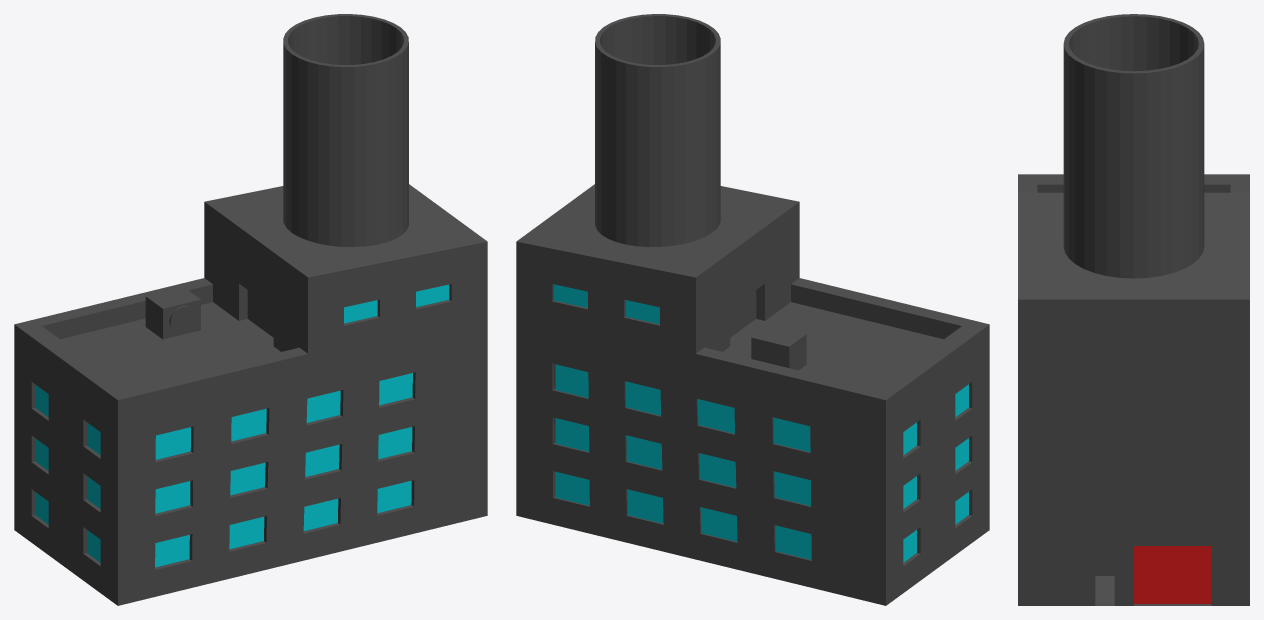
Rendered from Factory_01.fbx.
3 renders of one model, left to right at view 1: azimuth 30°, elevation 25°; view 2: azimuth 150°, elevation 25°; view 3: azimuth 270°, elevation 25°, orthographic. The views are drawn at different scales.
Visible parts, largest first — view 1: Cube, Plane, Plane.002, Plane.004; view 2: Cube, Plane.001, Plane.002, Plane.003; view 3: Cube, Plane.005, Plane.006.
Part boxes in pixels (left/top/right/bottom): Cube: left=14, top=14, right=487, bottom=605; Plane: left=155, top=373, right=412, bottom=567; Plane.002: left=35, top=384, right=100, bottom=562; Plane.004: left=344, top=284, right=449, bottom=323; Cube: left=516, top=14, right=989, bottom=605; Plane.001: left=555, top=364, right=811, bottom=559; Plane.002: left=903, top=384, right=968, bottom=562; Plane.003: left=553, top=284, right=659, bottom=324; Cube: left=1018, top=14, right=1249, bottom=605; Plane.005: left=1134, top=546, right=1211, bottom=603; Plane.006: left=1095, top=576, right=1114, bottom=603.
Size of the model in its own units: 412 by 489 by 200.
